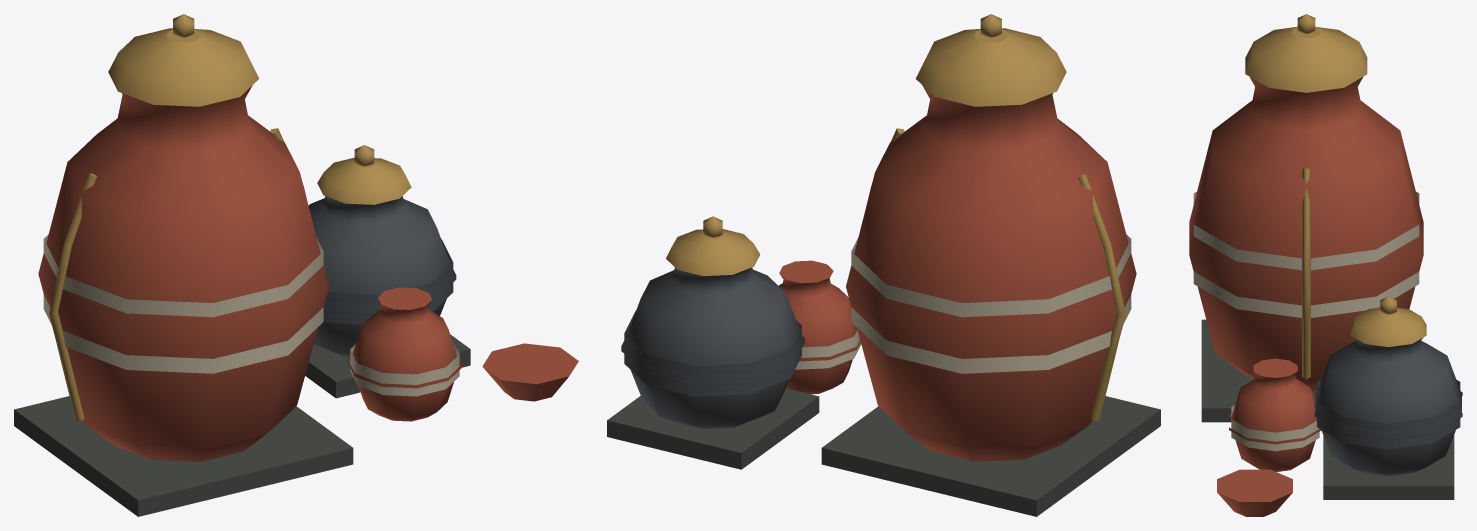
Rendered from goods_jar.glb.
The picture shows the model from 3 angles, left to right: view 1: azimuth 30°, elevation 25°; view 2: azimuth 150°, elevation 25°; view 3: azimuth 270°, elevation 25°; orthographic projection. The views are drawn at different scales.
Visible parts, largest first — view 1: goods_jar; view 2: goods_jar; view 3: goods_jar.
Boxes of the visible parts, bbox=[...] form: goods_jar: bbox=[14, 14, 578, 516]; goods_jar: bbox=[607, 14, 1160, 516]; goods_jar: bbox=[1189, 14, 1462, 516].
Bounding box in the file's own units: 1.86 × 1.56 × 1.06.
